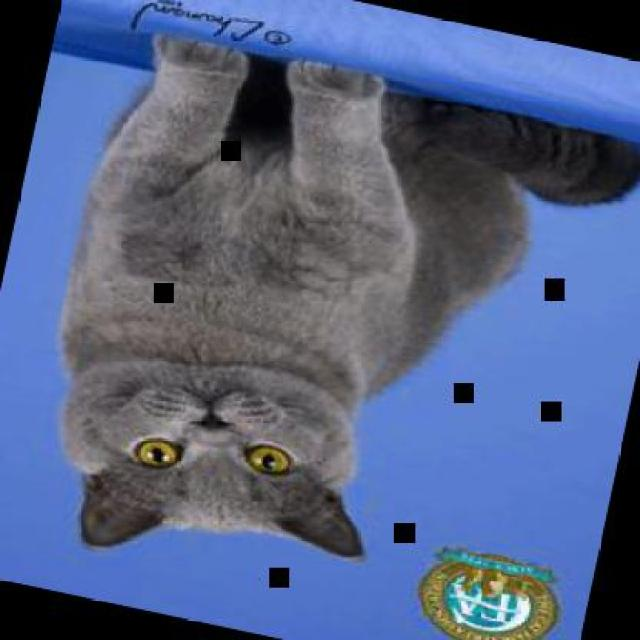cat: (9, 16, 638, 638)
